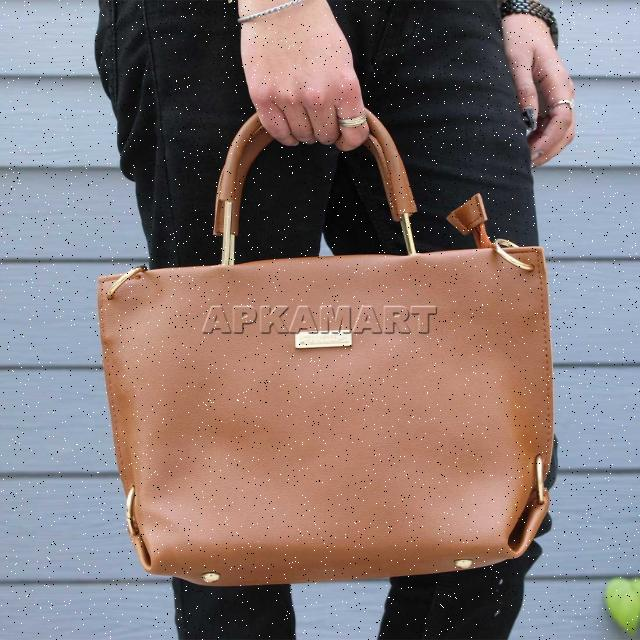handbag: (96, 106, 556, 587)
